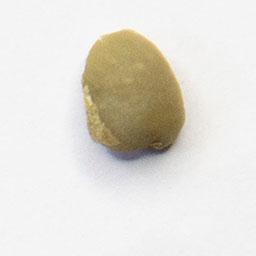peaberry: (78, 25, 189, 157)
